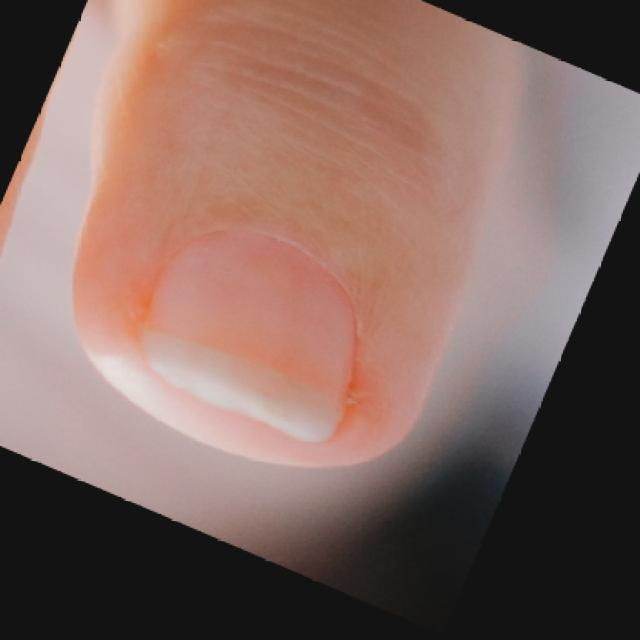Nail: (144, 234, 362, 443)
